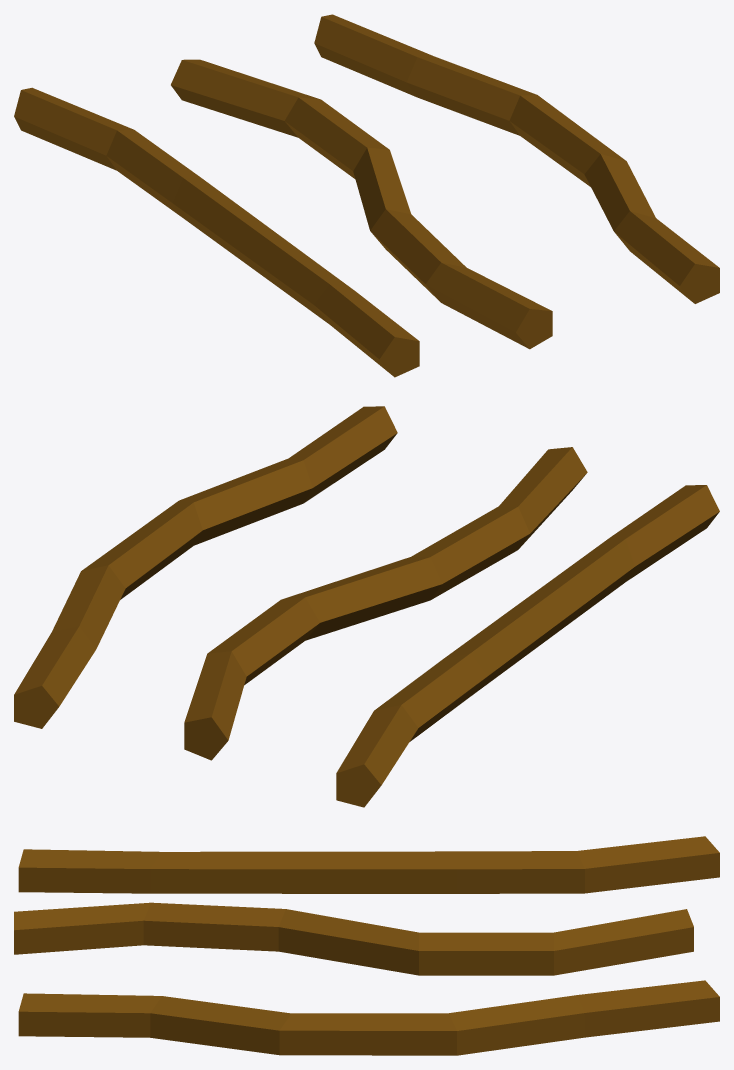
Rendered from Ranting Pohon.fbx.
The picture shows the model from 3 angles, top to bottom: view 1: azimuth 30°, elevation 25°; view 2: azimuth 150°, elevation 25°; view 3: azimuth 270°, elevation 25°; orthographic projection. The views are drawn at different scales.
Parts seen in each view (by area): view 1: Cylinder002; view 2: Cylinder002; view 3: Cylinder002.
Part boxes in pixels (x1,y1,x2,y2): Cylinder002: (14, 14, 719, 377); Cylinder002: (14, 406, 719, 807); Cylinder002: (14, 836, 719, 1055).
Bounding box in the file's own units: 128 × 12.3 × 198.
